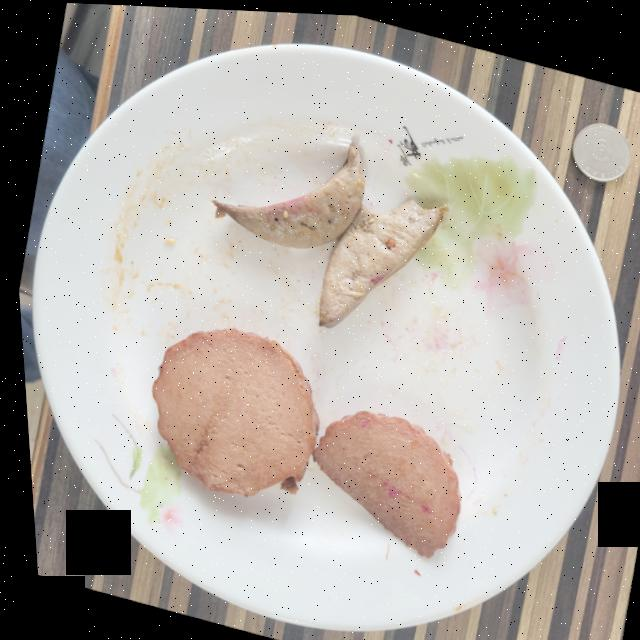Spam: (146, 326, 453, 553)
coin: (569, 117, 628, 176)
pig liver: (208, 140, 445, 325)
